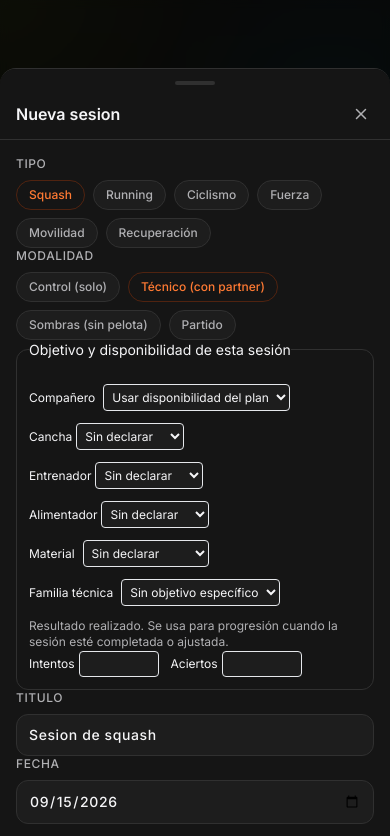
Test: AddSessionModal › no envía un título vacío
The width and height of the screenshot is (390, 836).
Clear the field labelled "Titulo" at coordinates (195, 734), box [16,714,374,756]
(page scrolled)
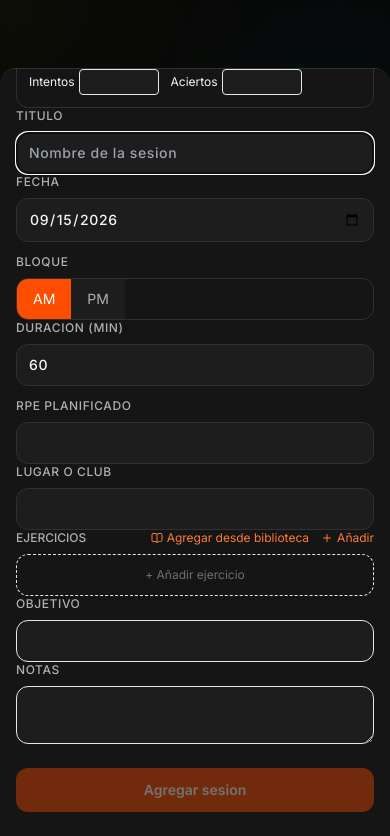
Check: the button "Agregar sesion" is disabled, box [16,768,374,812]
